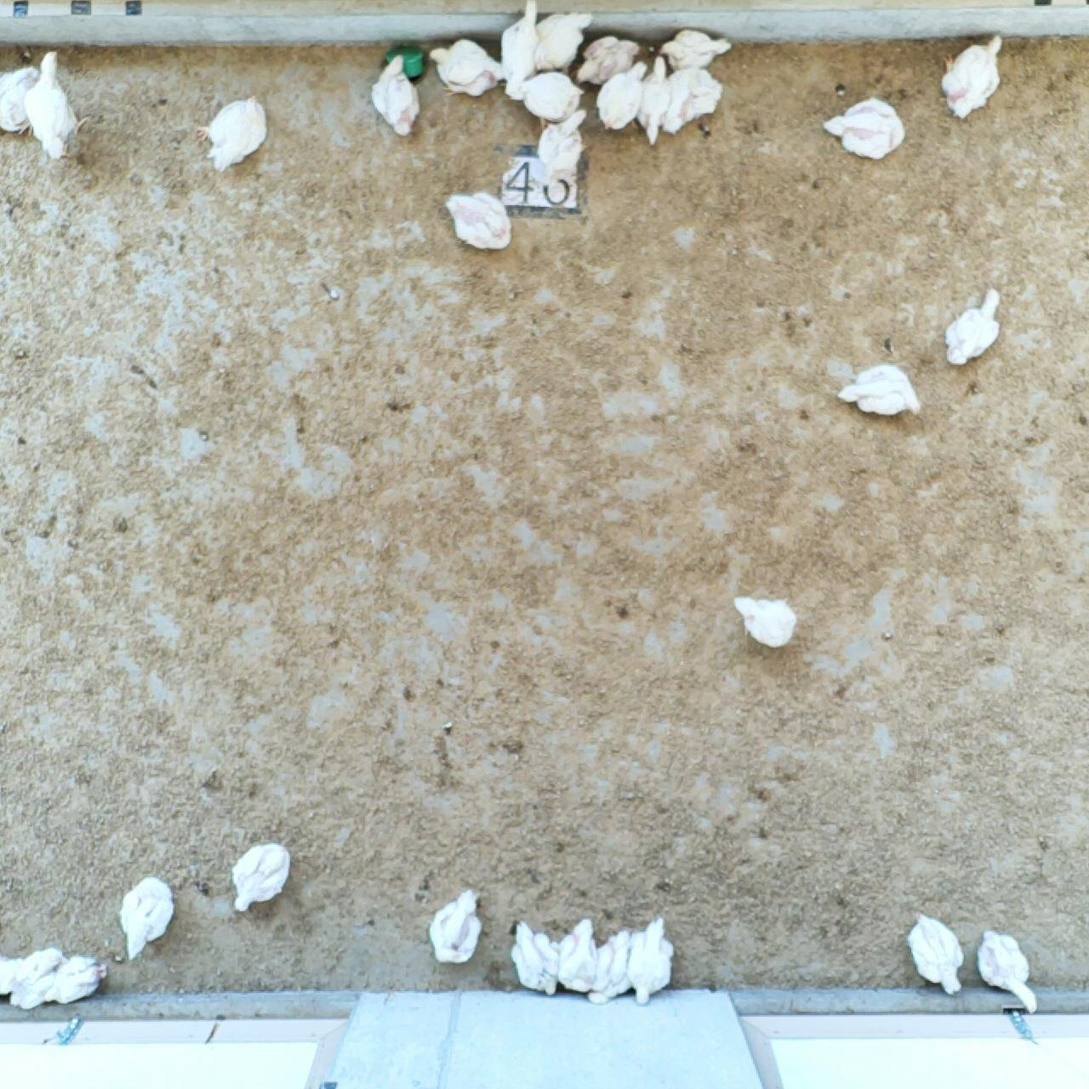chicken: (941, 33, 1003, 121), (824, 97, 906, 160), (197, 97, 268, 169), (34, 53, 82, 157), (976, 932, 1038, 1012), (624, 915, 677, 1006), (908, 914, 966, 997), (118, 878, 175, 960), (944, 288, 1001, 365), (837, 368, 921, 420), (659, 69, 726, 134), (525, 12, 593, 75), (429, 38, 501, 97), (367, 55, 417, 137), (538, 111, 591, 188), (516, 74, 584, 132), (30, 956, 102, 1010), (446, 193, 513, 250), (233, 845, 289, 911), (430, 892, 480, 965), (597, 60, 644, 135), (501, 3, 541, 91), (514, 921, 560, 996), (654, 26, 731, 70), (732, 595, 796, 647), (554, 921, 597, 998), (573, 36, 639, 86), (593, 931, 634, 1005), (3, 954, 60, 1006), (635, 55, 667, 147), (1, 67, 35, 135)
